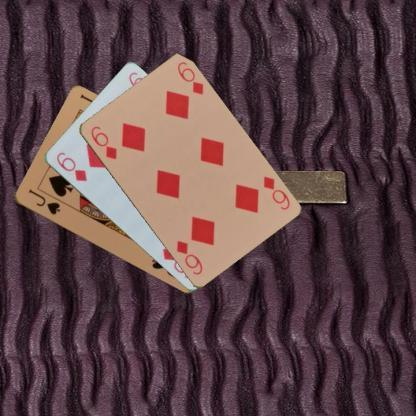6d: (53, 149, 89, 183), (260, 174, 291, 212), (88, 124, 118, 160)
Js: (25, 186, 62, 216)
